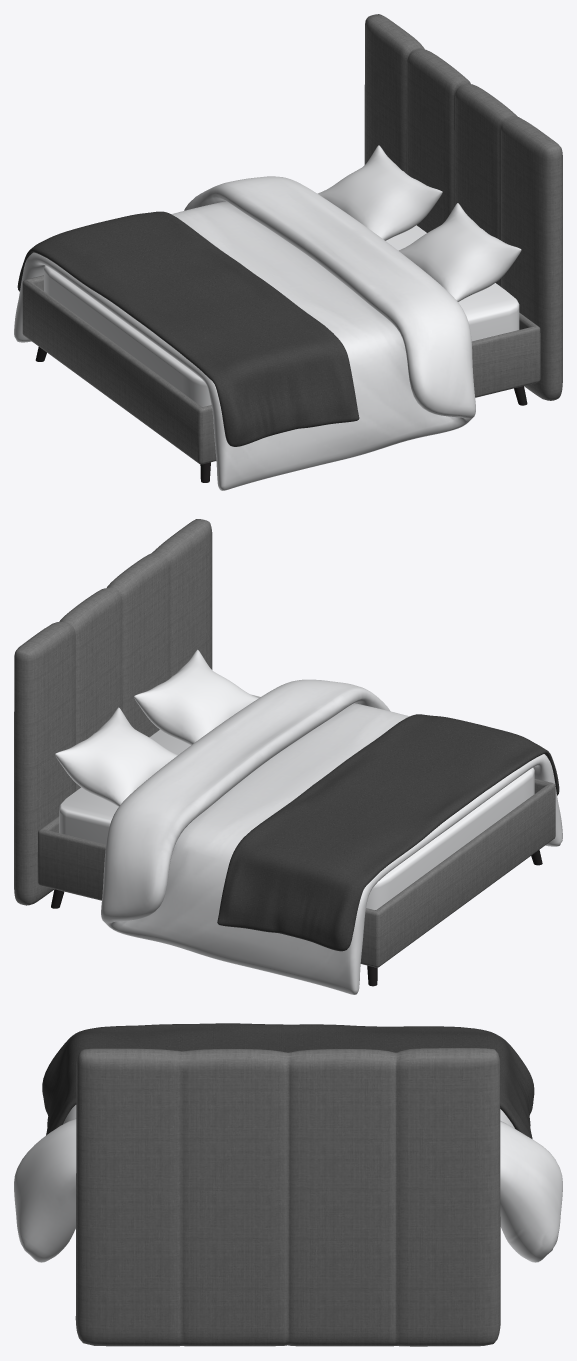
Rendered from Upholstered Bed 2k.glb.
3 renders of one model, top to bottom at view 1: azimuth 30°, elevation 25°; view 2: azimuth 150°, elevation 25°; view 3: azimuth 270°, elevation 25°, orthographic. The views are drawn at different scales.
Parts seen in each view (by area): view 1: OBJ_Bed_Blanket, OBJ_Bed_Body; view 2: OBJ_Bed_Blanket, OBJ_Bed_Body; view 3: OBJ_Bed_Body, OBJ_Bed_Blanket.
Part boxes in pixels (x1,y1,x2,y2): OBJ_Bed_Blanket: (14,145,521,490); OBJ_Bed_Body: (22,14,562,482); OBJ_Bed_Blanket: (55,649,562,994); OBJ_Bed_Body: (14,519,555,986); OBJ_Bed_Body: (75,1048,500,1346); OBJ_Bed_Blanket: (14,1023,562,1262).
Size of the model in its own units: 2.25 by 1.51 by 2.56.
Materials: 2 (2 with a texture image).
